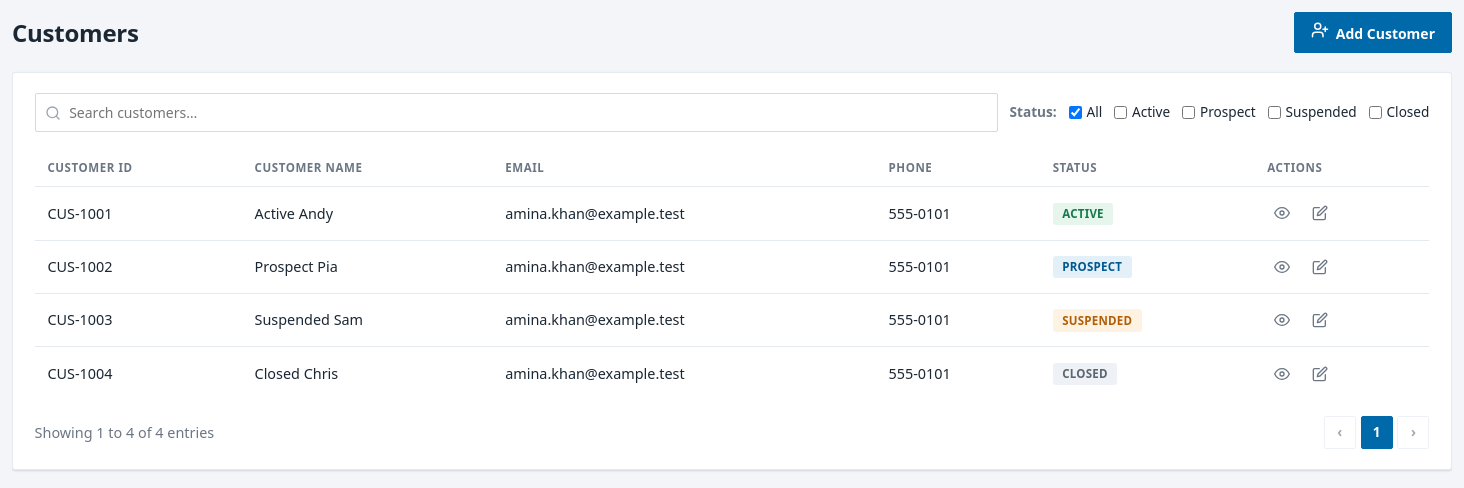
it: CustomerListPage › status filter › asks the server for a single checked status
This screenshot has width=1464, height=488.
Click the checkbox labelled "Active". click: (1121, 113)
box: [1114,106,1127,119]
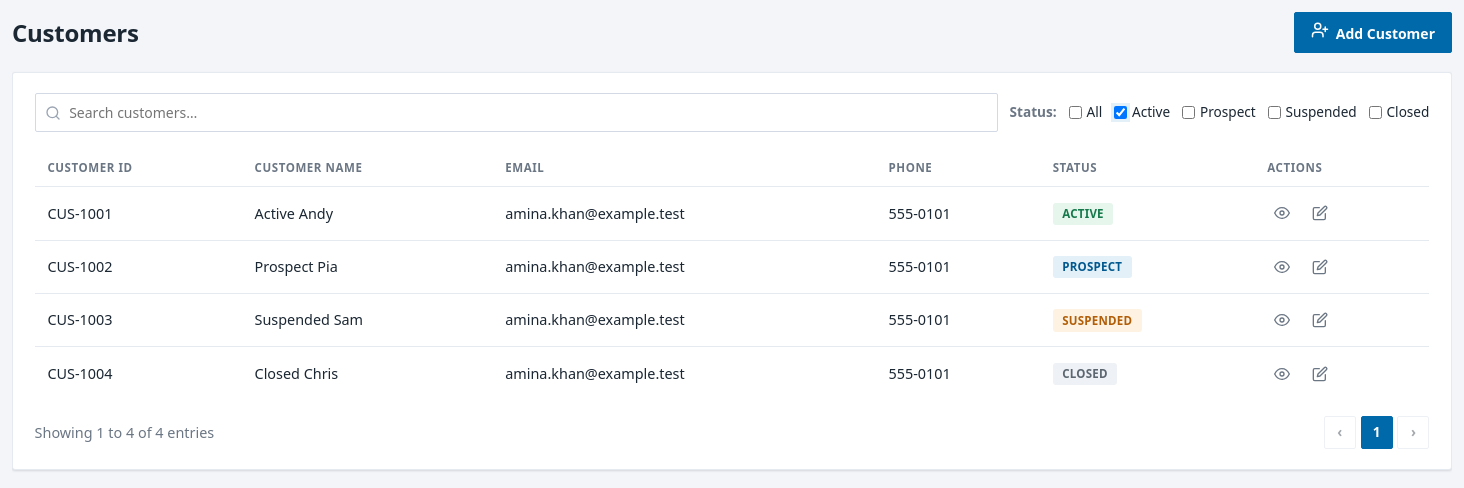
Now the checkbox labelled "All" is not checked, box [1069,106,1082,119]
